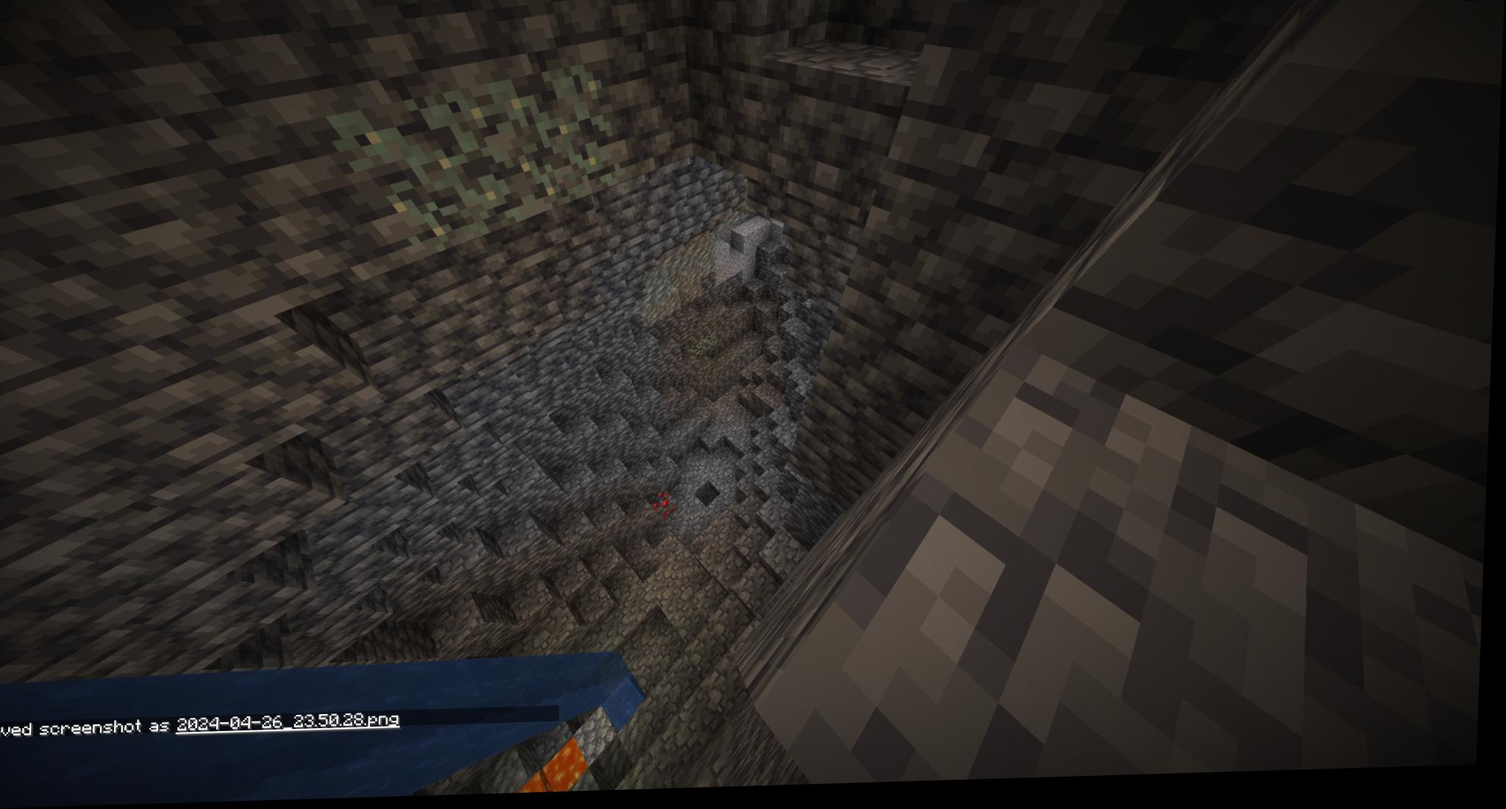redstone ore: (651, 494, 685, 522)
